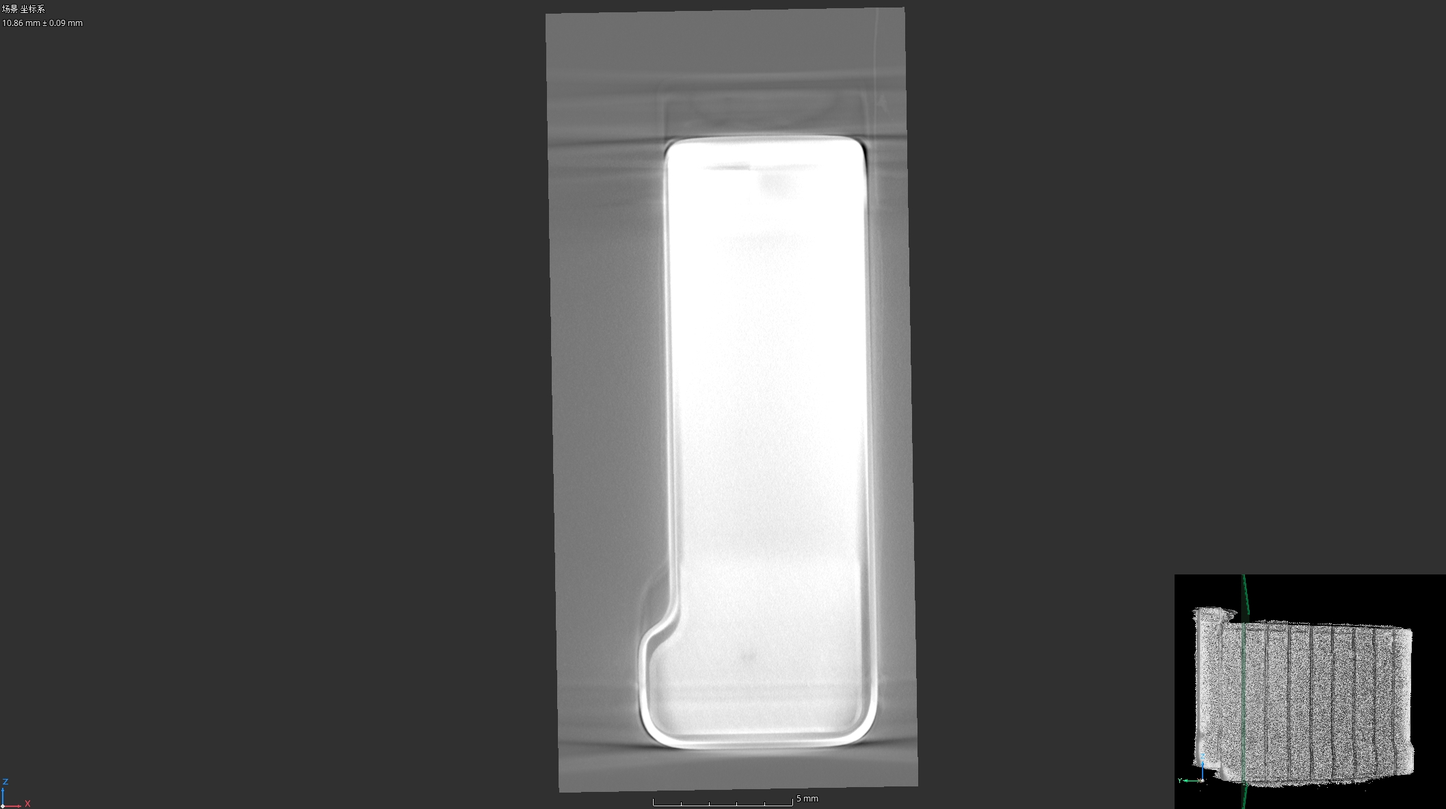dark: (734, 649, 761, 669)
